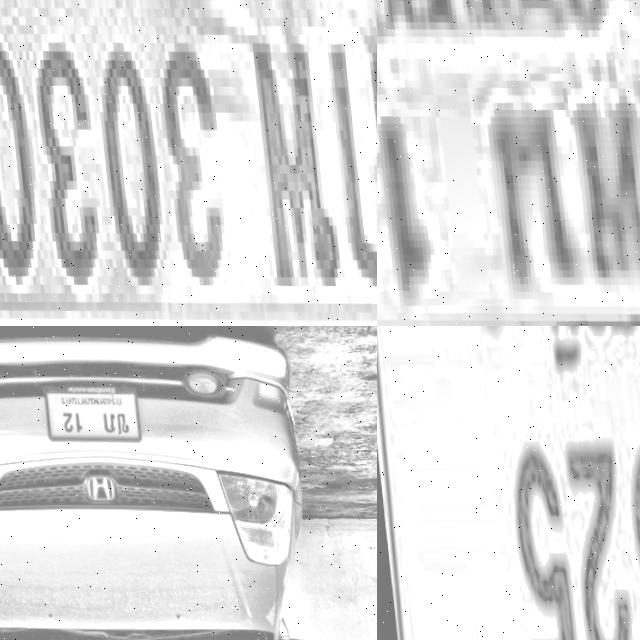license-plate: (0, 0, 377, 326), (377, 0, 640, 326), (377, 326, 640, 640), (31, 376, 143, 446)
